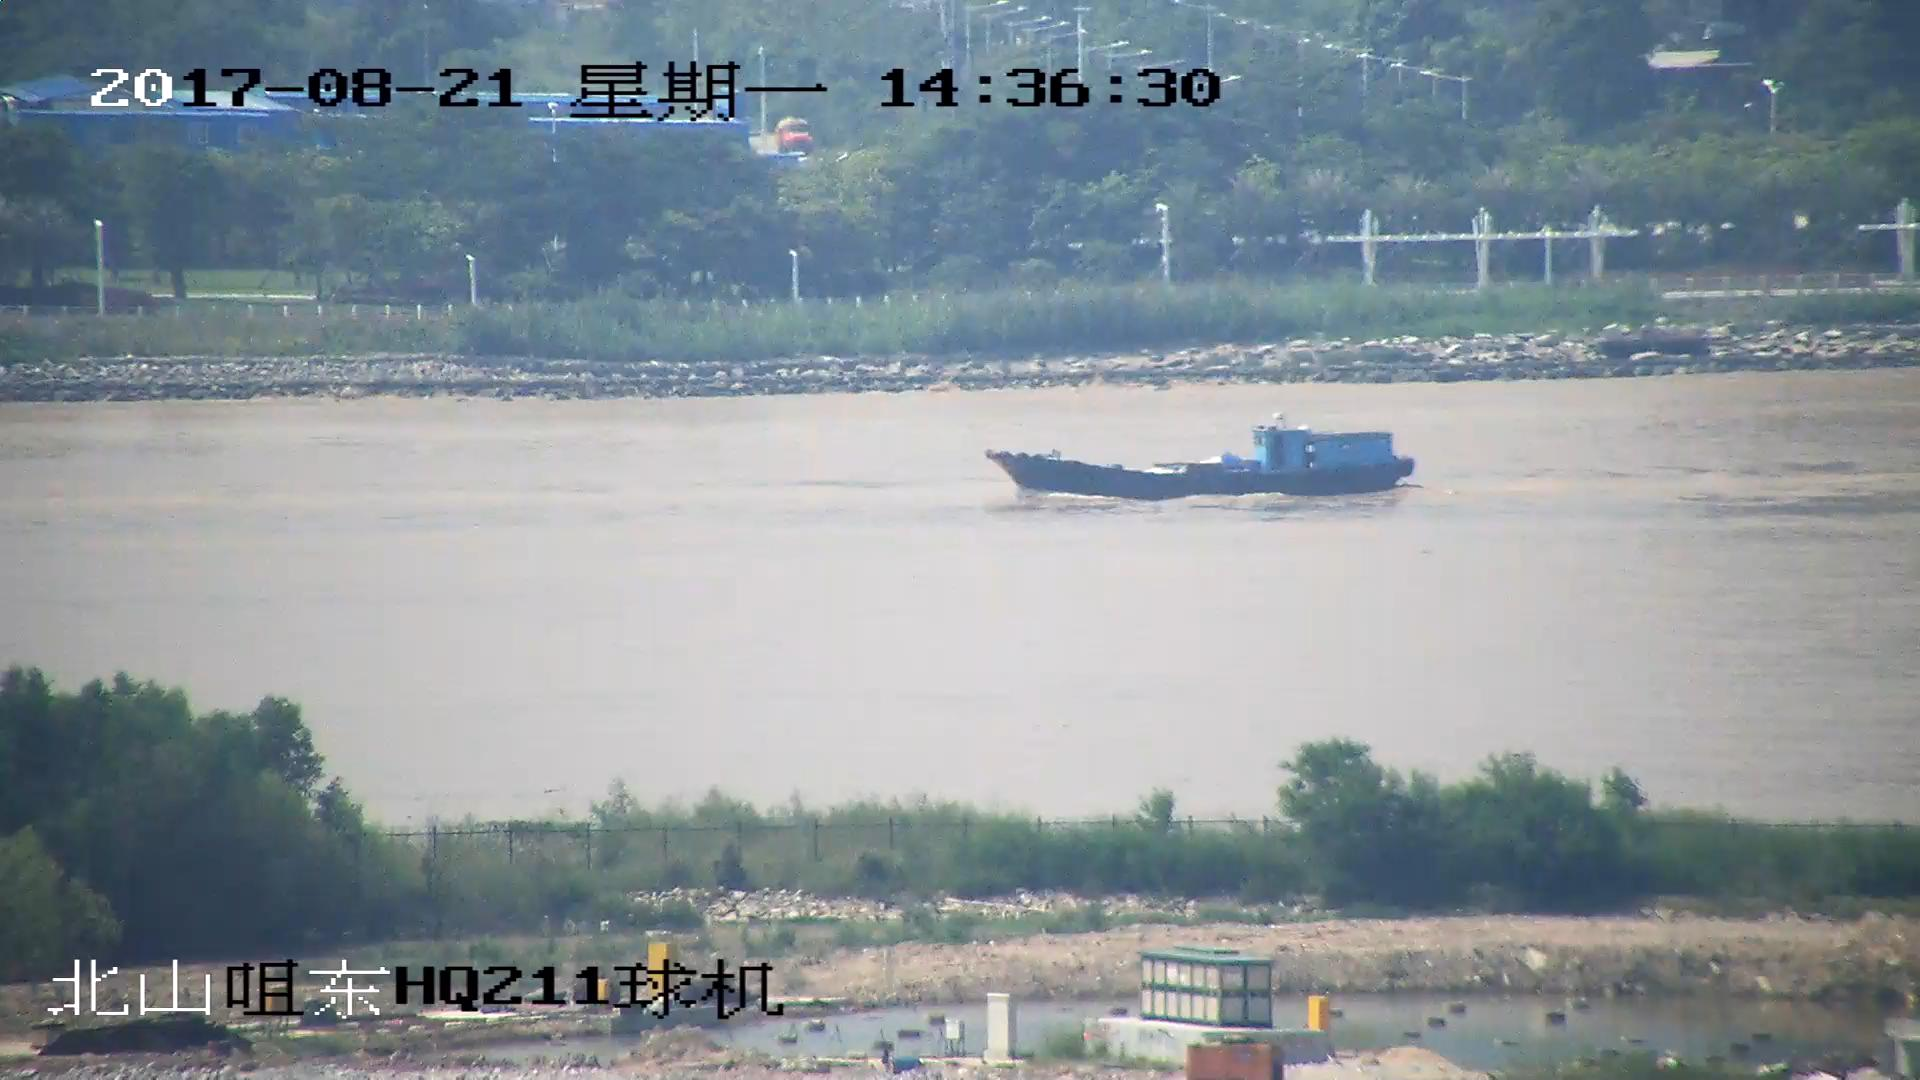fishing boat: (987, 417, 1421, 500)
